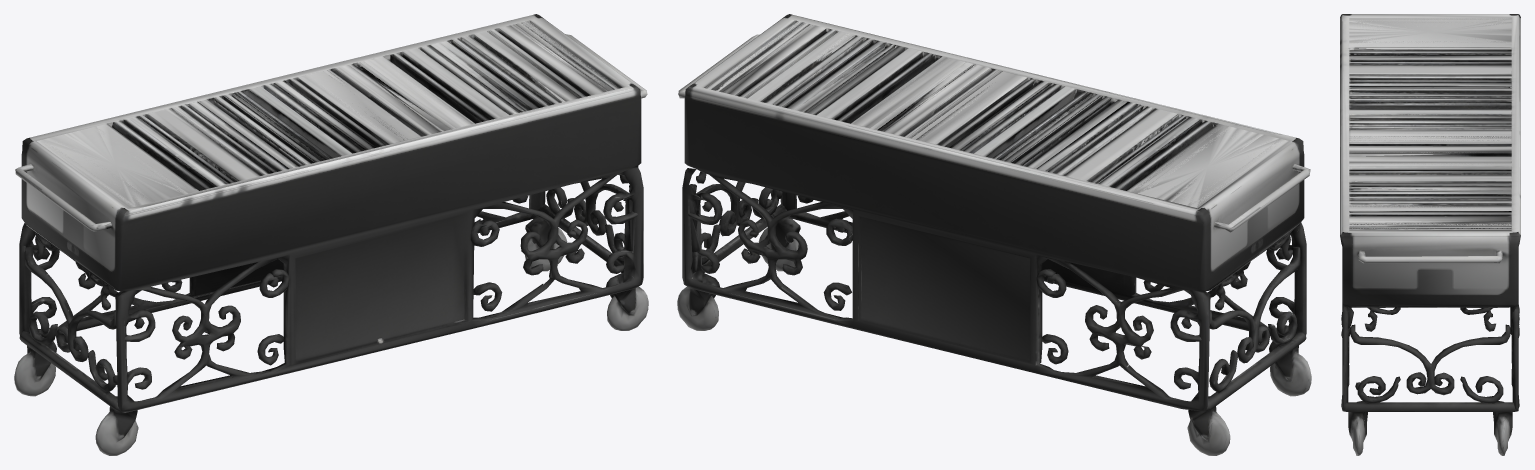
Rendered from Large_Portable_BBQ_Grill_30inchestall_0208183726_texture.glb.
The picture shows the model from 3 angles, left to right: view 1: azimuth 30°, elevation 25°; view 2: azimuth 150°, elevation 25°; view 3: azimuth 270°, elevation 25°; orthographic projection. The views are drawn at different scales.
Parts seen in each view (by area): view 1: Mesh_0; view 2: Mesh_0; view 3: Mesh_0.
Part boxes in pixels (box(x1,y1,x2,y2)): Mesh_0: box(14, 14, 648, 455); Mesh_0: box(677, 14, 1311, 455); Mesh_0: box(1340, 14, 1520, 455).
Size of the model in its own units: 1.78 by 0.762 by 0.5651.
Materials: 1 (1 with a texture image).
